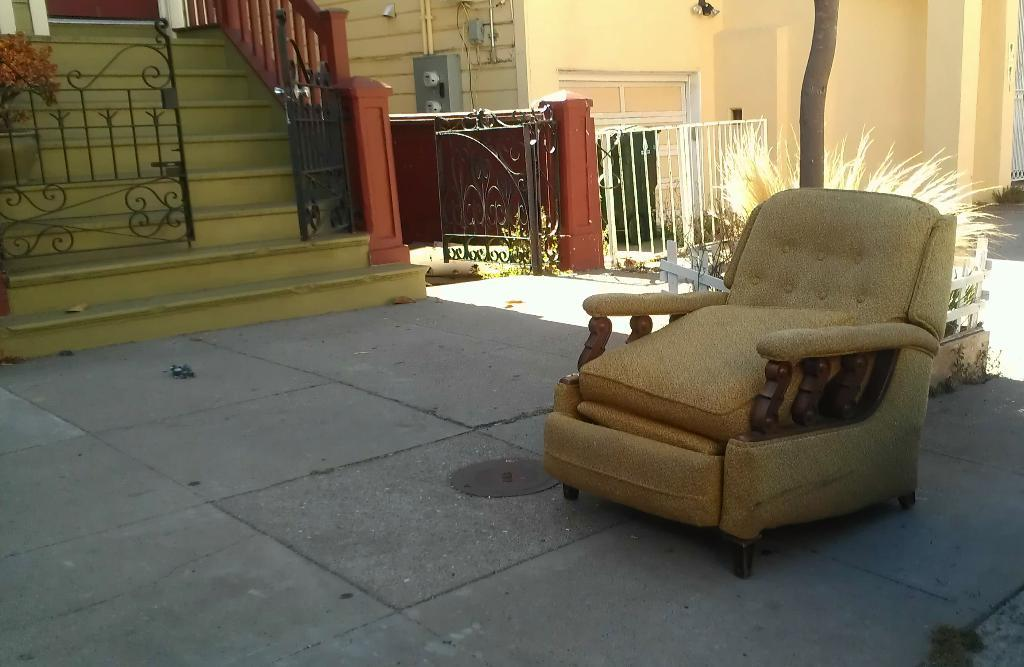Chair: (553, 190, 968, 555)
